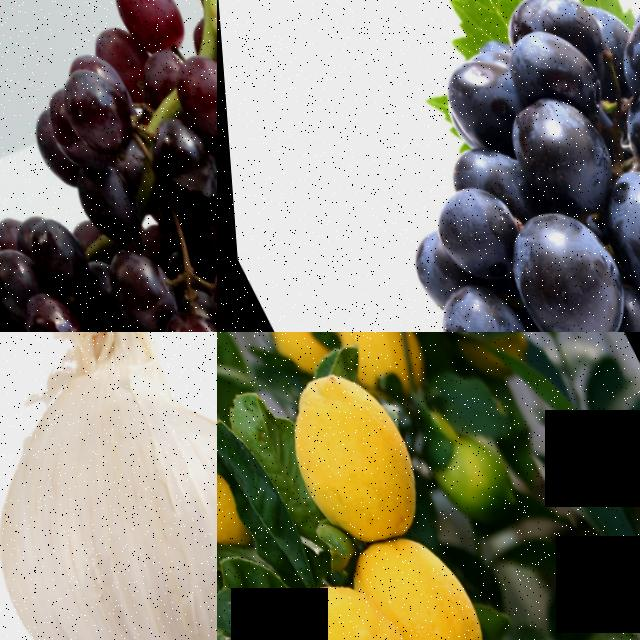garlic: (0, 332, 217, 640)
grapes: (268, 0, 640, 332), (0, 0, 217, 332), (0, 147, 217, 332)
lemon: (254, 342, 445, 560), (350, 512, 508, 640), (260, 559, 440, 640), (428, 434, 529, 535)
